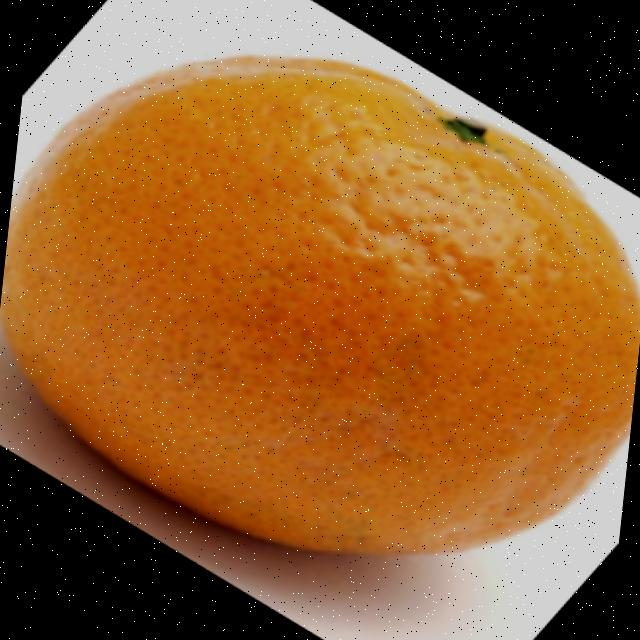orange: (0, 20, 640, 586)
